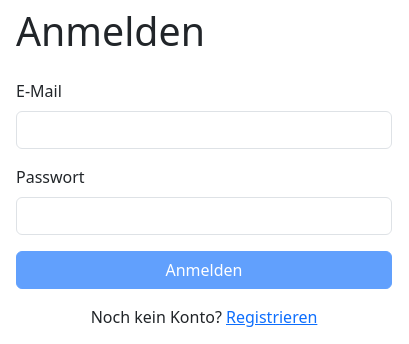
Test: LoginForm › disables submit until both fields are filled
The image size is (409, 344).
Expected: the button "Anmelden" is disabled, [16, 251, 392, 289]
Type "member@example.com" into the field labelled "E-Mail" at (204, 130), box [16, 111, 392, 149]
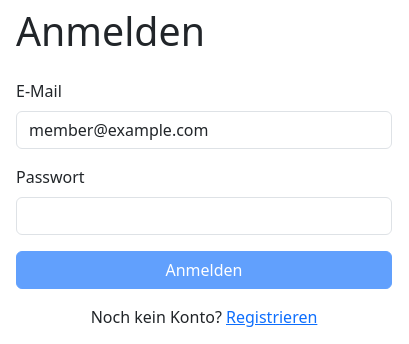
Expected: the button "Anmelden" is disabled, [16, 251, 392, 289]
Type "correct horse" into the password field labelled "Passwort" at (204, 216), box [16, 197, 392, 235]
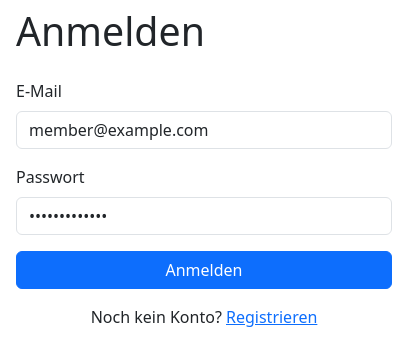
Result: the button "Anmelden" is enabled at [16, 251, 392, 289]
